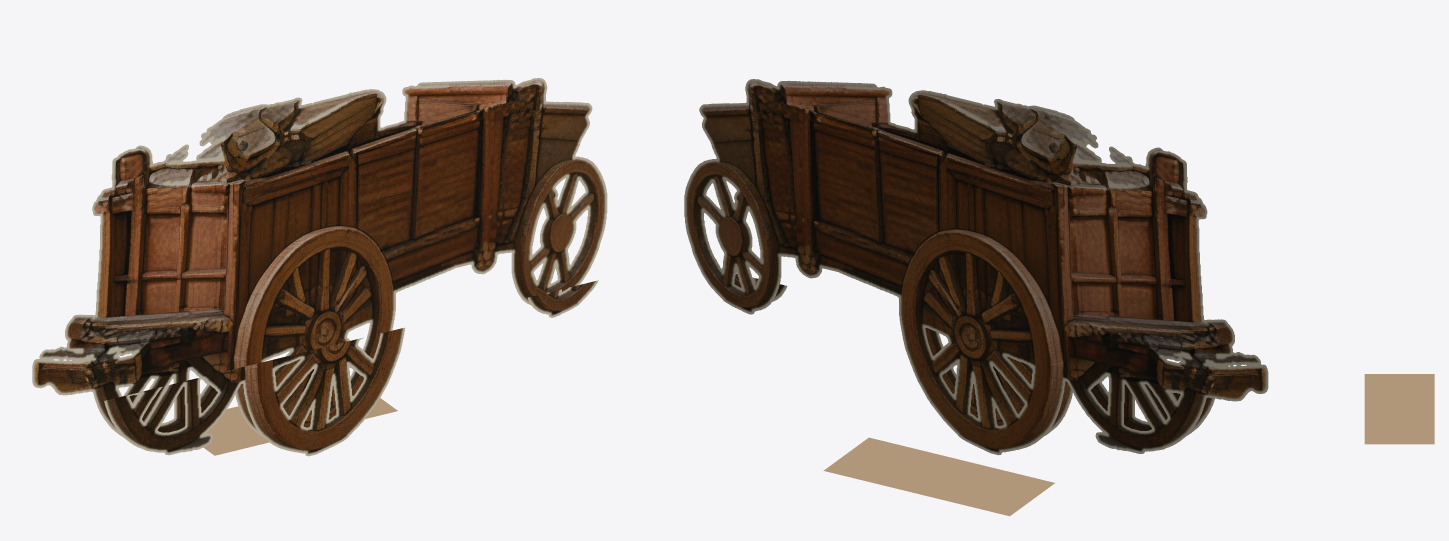
File: toad-prop-cart.glb
3 views of the same model, side by side, from view 1: azimuth 30°, elevation 25°; view 2: azimuth 150°, elevation 25°; view 3: azimuth 270°, elevation 25° (orthographic). The views are drawn at different scales.
Parts seen in each view (by area): view 1: cart; view 2: cart; view 3: cart.
Part boxes in pixels (x1,y1,x2,y2): cart: (32, 78, 607, 456); cart: (684, 79, 1268, 516); cart: (1364, 374, 1434, 444).
Size of the model in its own units: 0.26 by 0.1444 by 0.051.
Materials: 4 (3 with a texture image).
